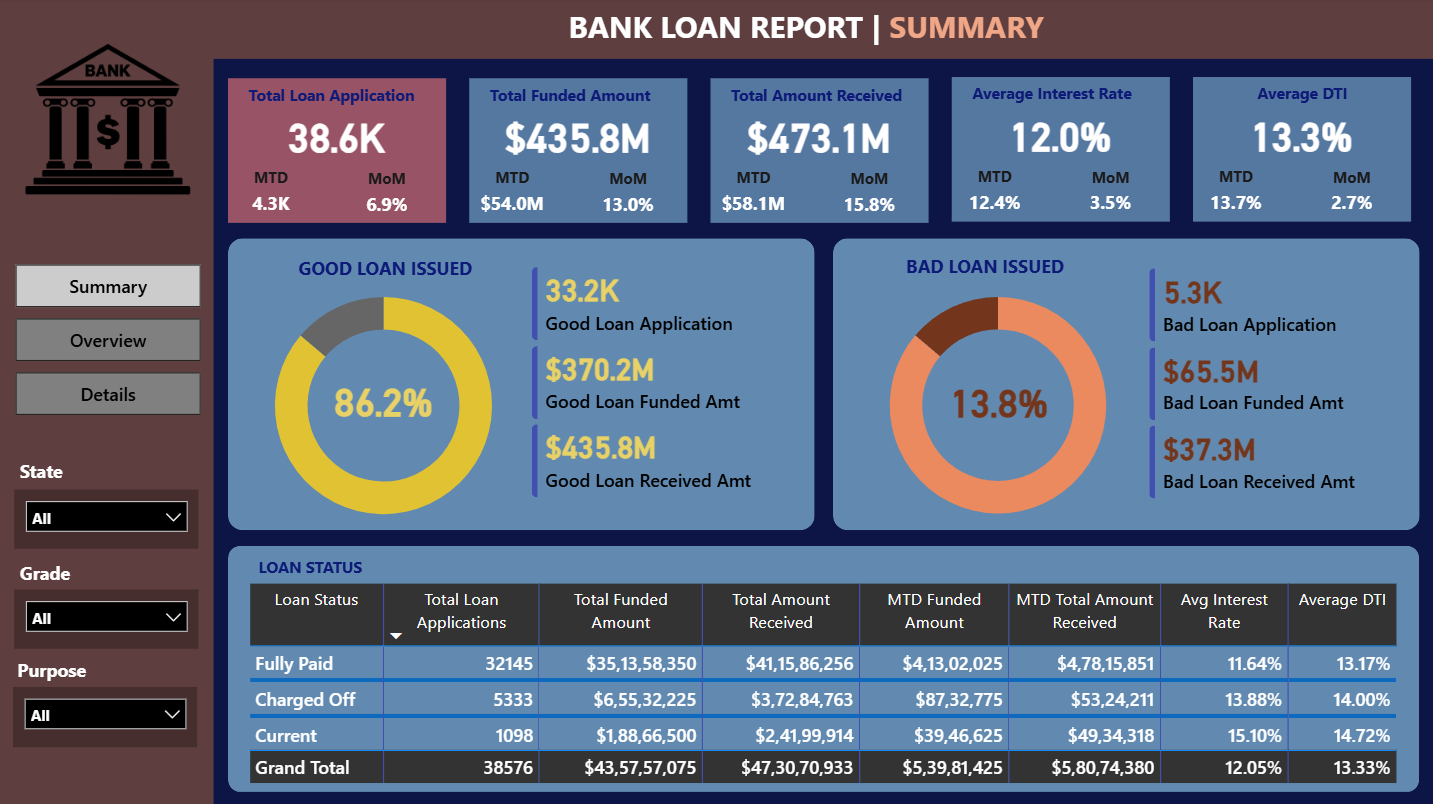

What the dashboard file says about the page in this screenshot:
{"tool":"powerbi","page":{"name":"Summary","canvas":[1280,720],"ordinal":0},"visuals":[{"type":"shape","box":[0,0,1280,55.1],"z":0},{"type":"shape","box":[0,54.5,192,665.7],"z":1000},{"type":"textbox","box":[503.2,3.3,436.4,52.3],"z":2000},{"type":"shape","box":[849.7,70.7,194.2,129.1],"z":3000,"group":"g4"},{"type":"shape","box":[1064.3,70.7,194.2,129.1],"z":3000,"group":"g5"},{"type":"group","id":"g1","title":"Group 1","box":[204.9,71.9,194.2,130.6],"z":3000},{"type":"shape","box":[204.9,71.9,194.2,129.1],"z":3000,"group":"g1"},{"type":"shape","box":[419.9,71.9,194.2,129.1],"z":3000,"group":"g2"},{"type":"shape","box":[634.8,71.9,194.2,129.1],"z":3000,"group":"g3"},{"type":"card","fields":{"Values":["bank_loan_db bank_loan.Average Interest Rate"]},"box":[875.8,88.5,142.1,65.1],"z":4000,"group":"g4"},{"type":"card","fields":{"Values":["bank_loan_db bank_loan.Average DTI"]},"box":[1090.4,88.5,142.1,65.1],"z":4000,"group":"g5"},{"type":"card","fields":{"Values":["bank_loan_db bank_loan.Total Loan Applications"]},"box":[231,89.7,142.1,65.1],"z":4000,"group":"g1"},{"type":"card","fields":{"Values":["bank_loan_db bank_loan.Total Funded Amount"]},"box":[446,89.7,142.1,65.1],"z":4000,"group":"g2"},{"type":"card","fields":{"Values":["bank_loan_db bank_loan.Total Amount Received"]},"box":[660.9,89.7,142.1,65.1],"z":4000,"group":"g3"},{"type":"shape","box":[204.9,214.5,522.5,260.1],"z":4000},{"type":"textbox","box":[862.7,70.7,168.2,35.5],"z":5000,"group":"g4"},{"type":"textbox","box":[1077.3,70.7,168.2,35.5],"z":5000,"group":"g5"},{"type":"textbox","box":[217.9,71.9,168.2,35.5],"z":5000,"group":"g1"},{"type":"group","id":"g2","title":"Group 1","box":[419.9,71.9,194.2,130.6],"z":5000},{"type":"textbox","box":[432.9,71.9,168.2,35.5],"z":5000,"group":"g2"},{"type":"textbox","box":[647.8,71.9,168.2,35.5],"z":5000,"group":"g3"},{"type":"card","title":"MoM","fields":{"Values":["bank_loan_db bank_loan.MoM Avg Int Rate"]},"box":[957.6,150.6,67.1,50.3],"z":6000,"group":"g4"},{"type":"card","title":"MoM","fields":{"Values":["bank_loan_db bank_loan.MoM Avg DTI"]},"box":[1172.2,150.6,67.1,50.3],"z":6000,"group":"g5"},{"type":"card","title":"MoM","fields":{"Values":["bank_loan_db bank_loan.MoM Loan Application"]},"box":[312.8,151.8,67.1,50.3],"z":6000,"group":"g1"},{"type":"card","title":"MoM","fields":{"Values":["bank_loan_db bank_loan.MoM Total Funded Amount"]},"box":[527.8,151.8,67.1,50.3],"z":6000,"group":"g2"},{"type":"card","title":"MoM","fields":{"Values":["bank_loan_db bank_loan.MoM Total Amount Received"]},"box":[742.7,151.8,67.1,50.3],"z":6000,"group":"g3"},{"type":"card","fields":{"Values":["bank_loan_db bank_loan.Good Loan %"]},"box":[281.6,335.6,123.4,47.9],"z":6000},{"type":"card","title":"MTD","fields":{"Values":["bank_loan_db bank_loan.MTD Avg Int Rate"]},"box":[849.8,149.4,76.7,51.5],"z":7000,"group":"g4"},{"type":"card","title":"MTD","fields":{"Values":["bank_loan_db bank_loan.MTD Avg DTI"]},"box":[1064.4,149.4,76.7,51.5],"z":7000,"group":"g5"},{"type":"card","title":"MTD","fields":{"Values":["bank_loan_db bank_loan.MTD Loan Applications"]},"box":[205,150.6,76.7,51.5],"z":7000,"group":"g1"},{"type":"card","title":"MTD","fields":{"Values":["bank_loan_db bank_loan.MTD Funded Amount"]},"box":[420,150.6,76.7,51.5],"z":7000,"group":"g2"},{"type":"card","title":"MTD","fields":{"Values":["bank_loan_db bank_loan.MTD Total Amount Received"]},"box":[634.9,150.6,76.7,51.5],"z":7000,"group":"g3"},{"type":"textbox","box":[262.7,224.9,168.1,36.7],"z":7000},{"type":"group","id":"g3","title":"Group 1","box":[634.8,71.9,194.2,130.6],"z":8000},{"type":"group","id":"g4","title":"Group 1","box":[849.7,70.7,193.8,130],"z":9000},{"type":"group","id":"g5","title":"Group 1","box":[1064.3,70.7,194.2,129.4],"z":10000},{"type":"shape","box":[204.8,488.7,1060.9,219.3],"z":11000},{"type":"shape","box":[743.1,214.5,522.5,260.1],"z":12000},{"type":"donutChart","fields":{"Category":["bank_loan_db bank_loan.Good Vs Bad Loan"],"Y":["bank_loan_db bank_loan.Total Loan Applications"]},"box":[170.2,238.5,346.4,251.7],"z":13000},{"type":"cardVisual","fields":{"Data":["bank_loan_db bank_loan.Good Loan Application","bank_loan_db bank_loan.Good Loan Funded Amt","bank_loan_db bank_loan.Good Loan Received Amt"]},"box":[458.6,223.7,264.9,240.4],"z":14000},{"type":"donutChart","fields":{"Category":["bank_loan_db bank_loan.Good Vs Bad Loan"],"Y":["bank_loan_db bank_loan.Total Loan Applications"]},"box":[717.1,238.1,347.7,251],"z":15000},{"type":"textbox","box":[803.7,223.7,167,36.7],"z":16000},{"type":"card","fields":{"Values":["bank_loan_db bank_loan.Bad Loan %"]},"box":[829.6,334.7,124.1,49.1],"z":17000},{"type":"cardVisual","fields":{"Data":["bank_loan_db bank_loan.Bad Loan Application","bank_loan_db bank_loan.Bad Loan Funded Amt","bank_loan_db bank_loan.Bad Loan Received Amt"]},"box":[1008.5,224.9,264.9,240.4],"z":18000},{"type":"tableEx","fields":{"Values":["bank_loan_db bank_loan.loan_status","bank_loan_db bank_loan.Total Loan Applications","bank_loan_db bank_loan.Total Funded Amount","bank_loan_db bank_loan.Total Amount Received","bank_loan_db bank_loan.MTD Funded Amount","bank_loan_db bank_loan.MTD Total Amount Received","bank_loan_db bank_loan.Average Interest Rate","bank_loan_db bank_loan.Average DTI"]},"box":[218.2,517.6,1039.7,202.6],"z":19000},{"type":"textbox","box":[227.1,493.1,168.1,36.7],"z":20000},{"type":"slicer","fields":{"Values":["bank_loan_db bank_loan.address_state"]},"box":[14.4,438.7,164.2,52.7],"z":21000},{"type":"textbox","box":[14.4,406.3,59.9,36],"z":22000},{"type":"slicer","fields":{"Values":["bank_loan_db bank_loan.grade"]},"box":[14.4,527.3,164.2,52.7],"z":23000},{"type":"textbox","box":[14.4,496.2,58.7,36],"z":24000},{"type":"slicer","fields":{"Values":["bank_loan_db bank_loan.purpose"]},"box":[13.2,614.8,164.2,53.9],"z":25000},{"type":"textbox","box":[12,583.7,101.9,37.2],"z":26000},{"type":"image","box":[2.2,0,191.5,243.8],"z":26002},{"type":"pageNavigator","box":[15.6,238.2,165.9,136.9],"z":26003}]}

Visuals, with their boxes in screenshot pixels (x1, y1, x2, y2), scaled from the page's 1280x720 canvas onto the 1433x804 screenshot:
shape: <bbox>0, 0, 1432, 62</bbox>
shape: <bbox>0, 61, 215, 803</bbox>
textbox: <bbox>563, 4, 1052, 62</bbox>
shape: <bbox>951, 79, 1169, 223</bbox>
shape: <bbox>1192, 79, 1409, 223</bbox>
"Group 1" group: <bbox>229, 80, 447, 226</bbox>
shape: <bbox>229, 80, 447, 224</bbox>
shape: <bbox>470, 80, 688, 224</bbox>
shape: <bbox>711, 80, 928, 224</bbox>
card - bank_loan_db bank_loan.Average Interest Rate: <bbox>980, 99, 1140, 172</bbox>
card - bank_loan_db bank_loan.Average DTI: <bbox>1221, 99, 1380, 172</bbox>
card - bank_loan_db bank_loan.Total Loan Applications: <bbox>259, 100, 418, 173</bbox>
card - bank_loan_db bank_loan.Total Funded Amount: <bbox>499, 100, 658, 173</bbox>
card - bank_loan_db bank_loan.Total Amount Received: <bbox>740, 100, 899, 173</bbox>
shape: <bbox>229, 240, 814, 530</bbox>
textbox: <bbox>966, 79, 1154, 119</bbox>
textbox: <bbox>1206, 79, 1394, 119</bbox>
textbox: <bbox>244, 80, 432, 120</bbox>
"Group 1" group: <bbox>470, 80, 688, 226</bbox>
textbox: <bbox>485, 80, 673, 120</bbox>
textbox: <bbox>725, 80, 914, 120</bbox>
"MoM" card: <bbox>1072, 168, 1147, 224</bbox>
"MoM" card: <bbox>1312, 168, 1387, 224</bbox>
"MoM" card: <bbox>350, 170, 425, 226</bbox>
"MoM" card: <bbox>591, 170, 666, 226</bbox>
"MoM" card: <bbox>831, 170, 907, 226</bbox>
card - bank_loan_db bank_loan.Good Loan %: <bbox>315, 375, 453, 428</bbox>
"MTD" card: <bbox>951, 167, 1037, 224</bbox>
"MTD" card: <bbox>1192, 167, 1277, 224</bbox>
"MTD" card: <bbox>230, 168, 315, 226</bbox>
"MTD" card: <bbox>470, 168, 556, 226</bbox>
"MTD" card: <bbox>711, 168, 797, 226</bbox>
textbox: <bbox>294, 251, 482, 292</bbox>
"Group 1" group: <bbox>711, 80, 928, 226</bbox>
"Group 1" group: <bbox>951, 79, 1168, 224</bbox>
"Group 1" group: <bbox>1192, 79, 1409, 223</bbox>
shape: <bbox>229, 546, 1417, 791</bbox>
shape: <bbox>832, 240, 1417, 530</bbox>
donutChart - bank_loan_db bank_loan.Good Vs Bad Loan x bank_loan_db bank_loan.Total Loan Applications: <bbox>191, 266, 578, 547</bbox>
cardVisual - bank_loan_db bank_loan.Good Loan Application x bank_loan_db bank_loan.Good Loan Funded Amt: <bbox>513, 250, 810, 518</bbox>
donutChart - bank_loan_db bank_loan.Good Vs Bad Loan x bank_loan_db bank_loan.Total Loan Applications: <bbox>803, 266, 1192, 546</bbox>
textbox: <bbox>900, 250, 1087, 291</bbox>
card - bank_loan_db bank_loan.Bad Loan %: <bbox>929, 374, 1068, 429</bbox>
cardVisual - bank_loan_db bank_loan.Bad Loan Application x bank_loan_db bank_loan.Bad Loan Funded Amt: <bbox>1129, 251, 1426, 520</bbox>
tableEx - bank_loan_db bank_loan.loan_status x bank_loan_db bank_loan.Total Loan Applications: <bbox>244, 578, 1408, 803</bbox>
textbox: <bbox>254, 551, 442, 592</bbox>
slicer - bank_loan_db bank_loan.address_state: <bbox>16, 490, 200, 549</bbox>
textbox: <bbox>16, 454, 83, 494</bbox>
slicer - bank_loan_db bank_loan.grade: <bbox>16, 589, 200, 648</bbox>
textbox: <bbox>16, 554, 82, 594</bbox>
slicer - bank_loan_db bank_loan.purpose: <bbox>15, 687, 199, 747</bbox>
textbox: <bbox>13, 652, 128, 693</bbox>
image: <bbox>2, 0, 217, 272</bbox>
pageNavigator: <bbox>17, 266, 203, 419</bbox>
